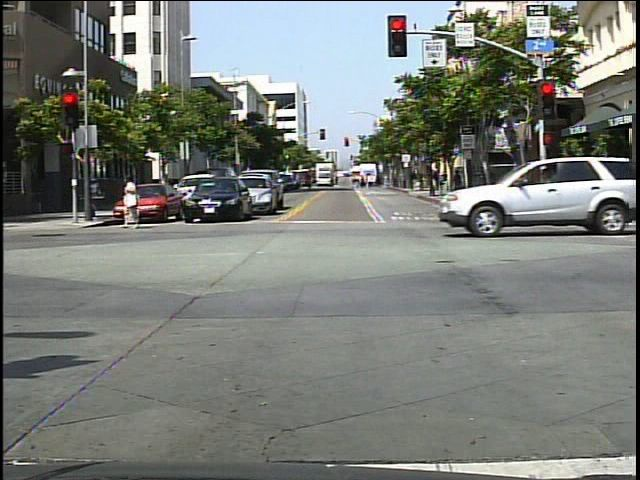person: (533, 169, 567, 230), (118, 170, 149, 234), (549, 160, 571, 211)
